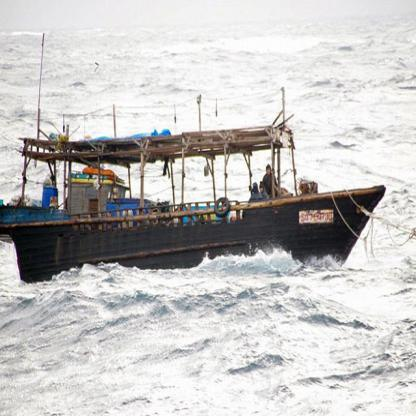Ship: (2, 79, 391, 291)
